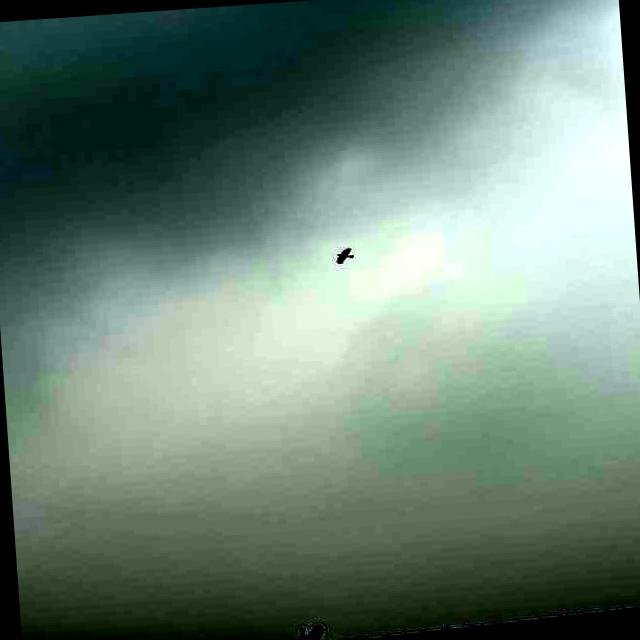bird: (331, 244, 358, 268)
